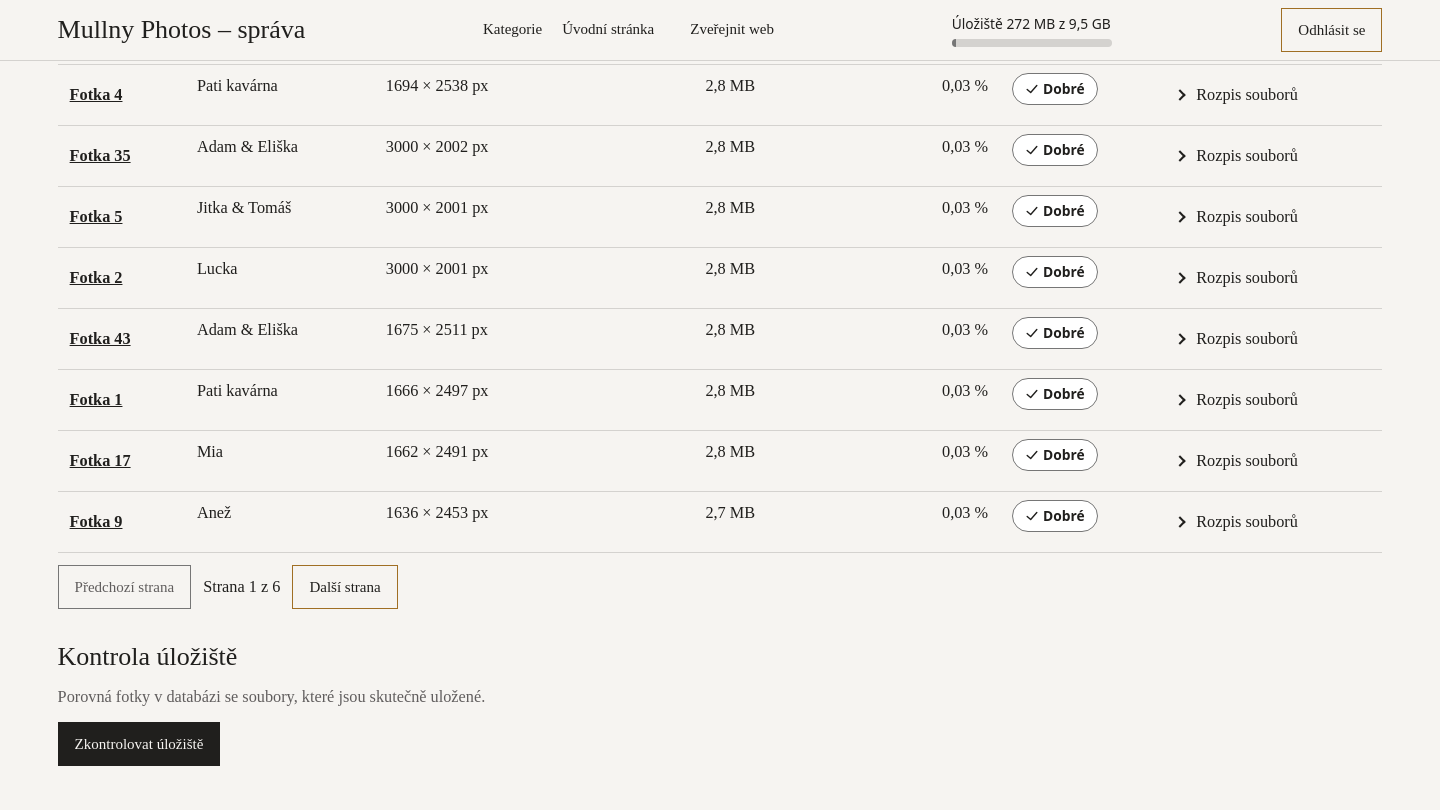
Test case: storage screen: check › follows the cursor over two pages, says "Součet souhlasí." and never sends apply: true
The image size is (1440, 810).
(page scrolled)
Click the button "Zkontrolovat úložiště".
click(139, 744)  # box [58,722,220,766]
(page scrolled)
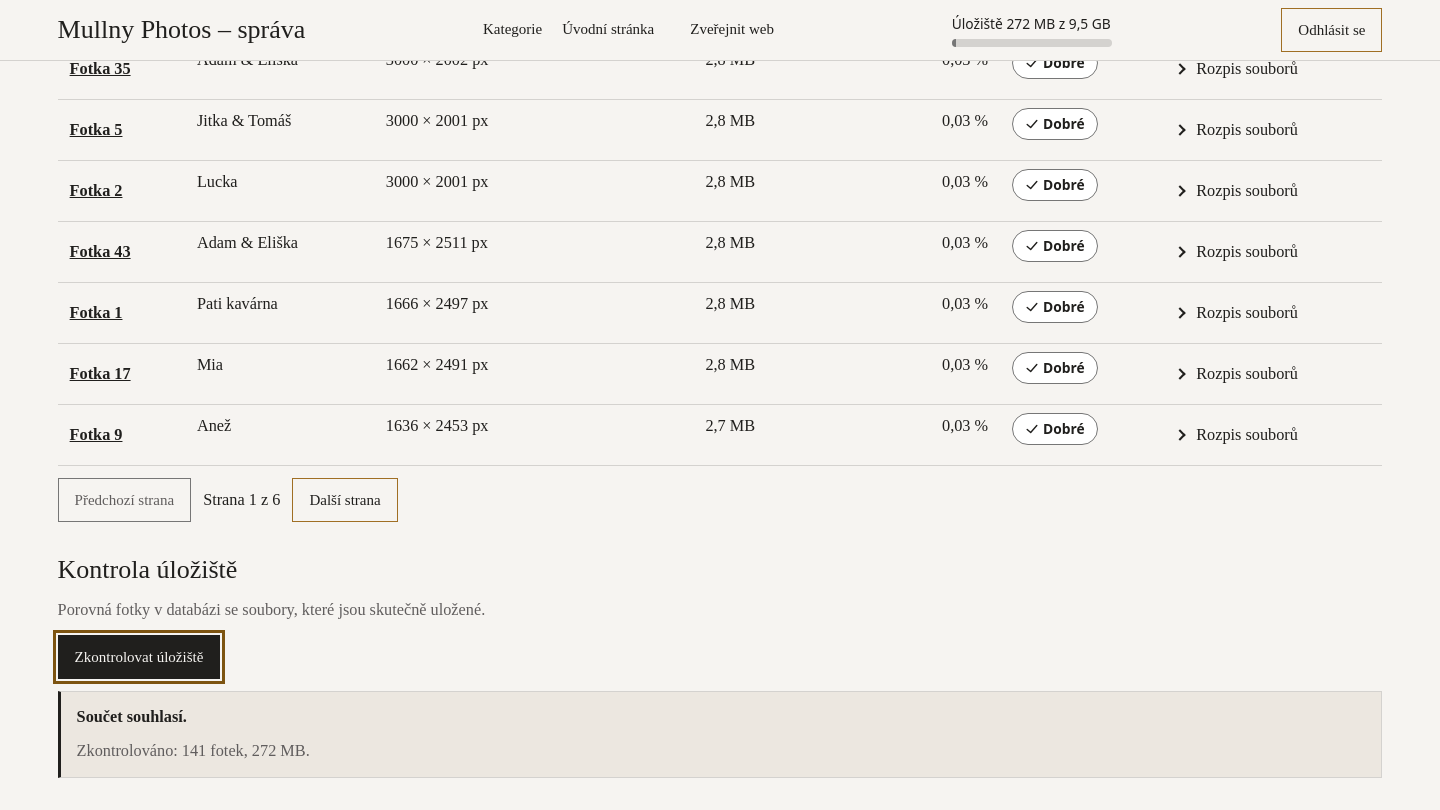
Check: the text "Součet souhlasí." is shown, box [77,707,187,726]
